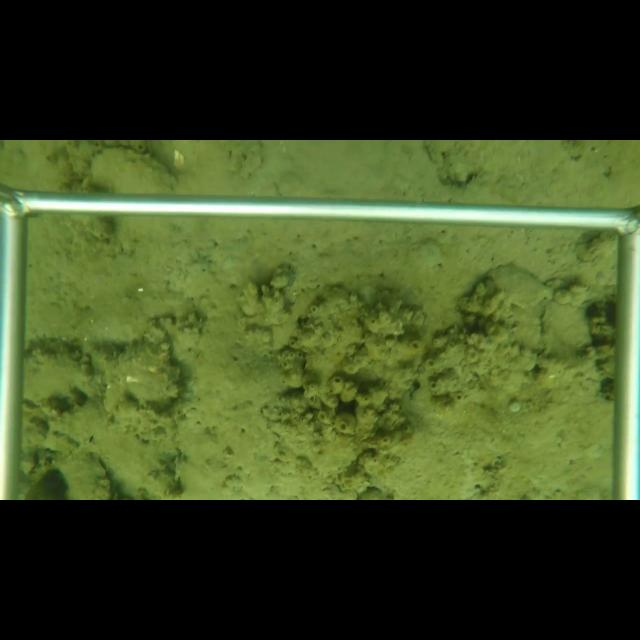Oyster-Closed: (458, 260, 561, 357), (89, 147, 182, 194)
